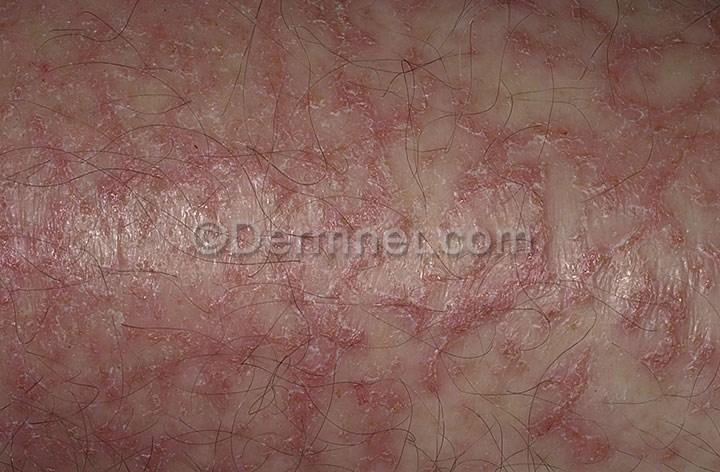Eczema: (169, 4, 460, 206), (471, 0, 720, 221), (482, 255, 715, 471), (257, 255, 470, 466), (2, 213, 165, 466), (2, 5, 160, 204), (169, 256, 253, 469)
